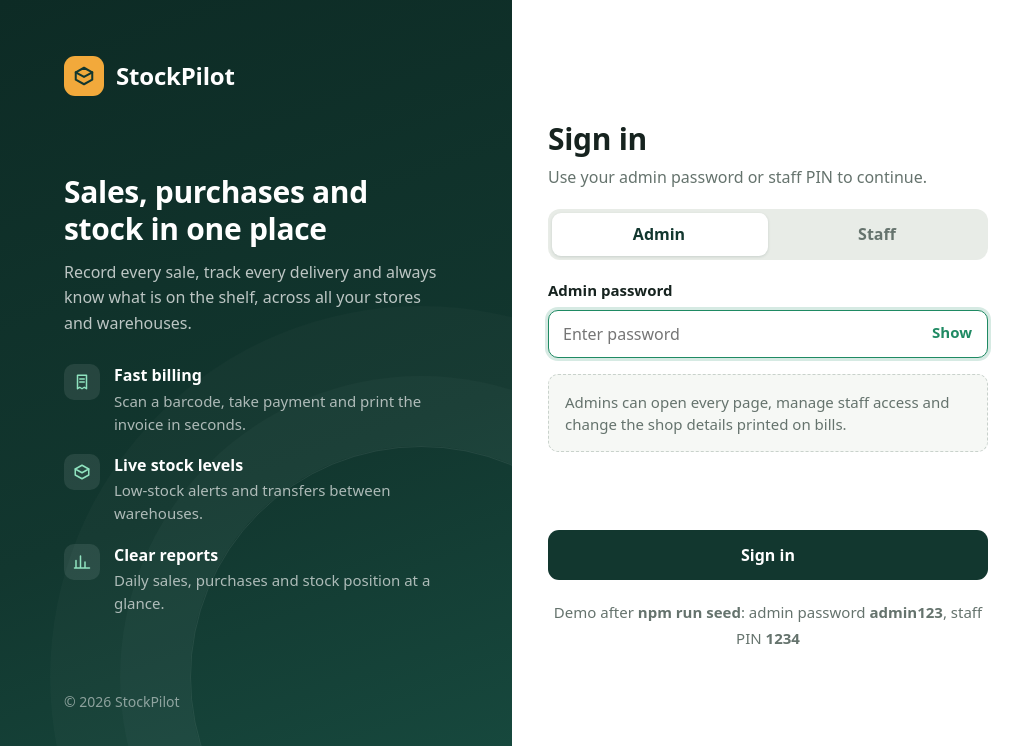
Test case: stock check blocks over-selling
Type "admin123" into the password field with placeholder "Enter password".
click(768, 334); type("admin123")  # box [548,310,988,358]
Then press Enter
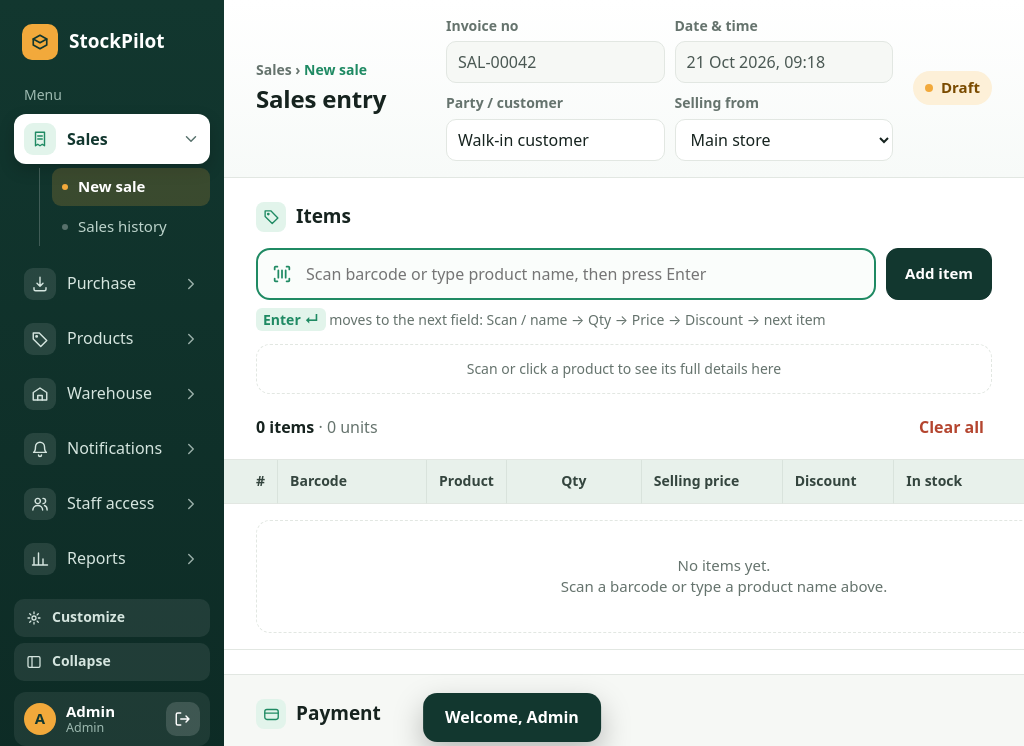
Expected: the heading "Sales entry" is shown, [256,82,386,115]
Type "8901234500001" into the field with placeholder "Scan barcode or type product name, then press Enter".
click(566, 274); type("8901234500001")  # box [256,248,876,300]
Then press Enter
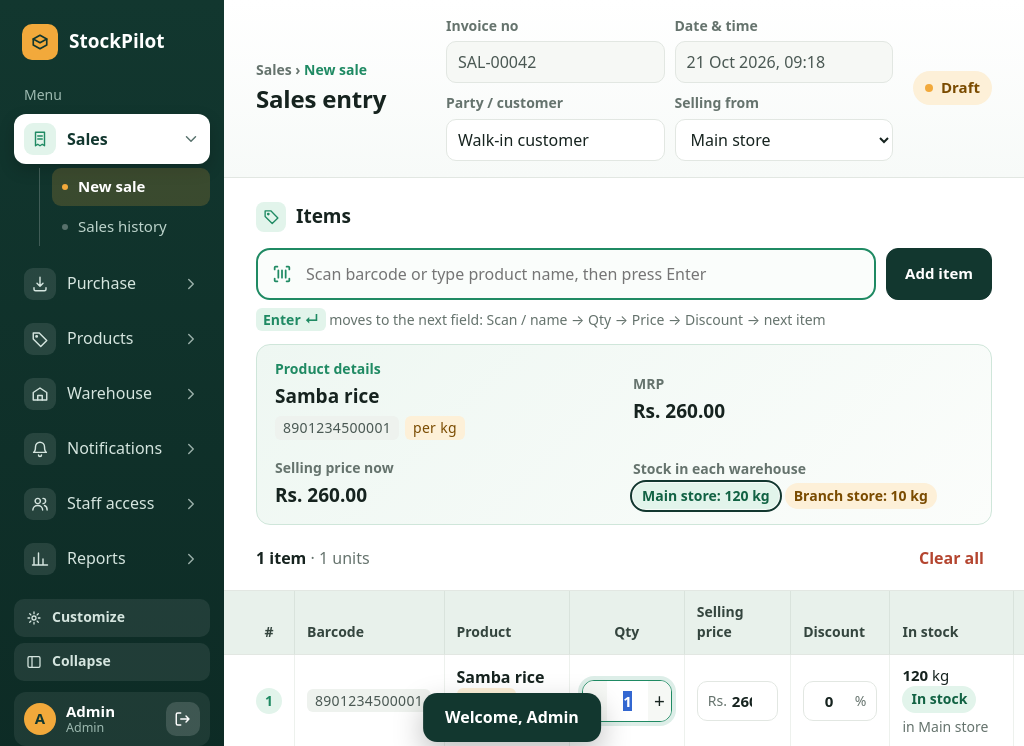
Replace the text in the number field named "Quantity for Samba rice" with "500" at (628, 701), box [607,681,648,721]
(page scrolled)
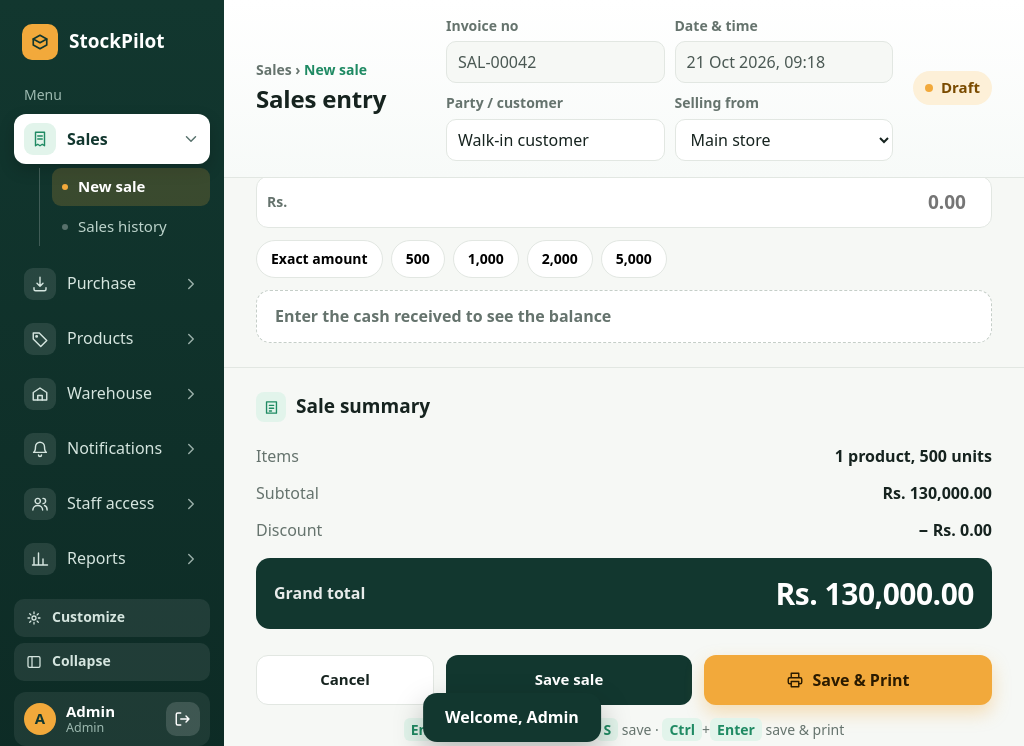
Click the button "Save sale".
click(569, 680)  # box [446,655,692,705]
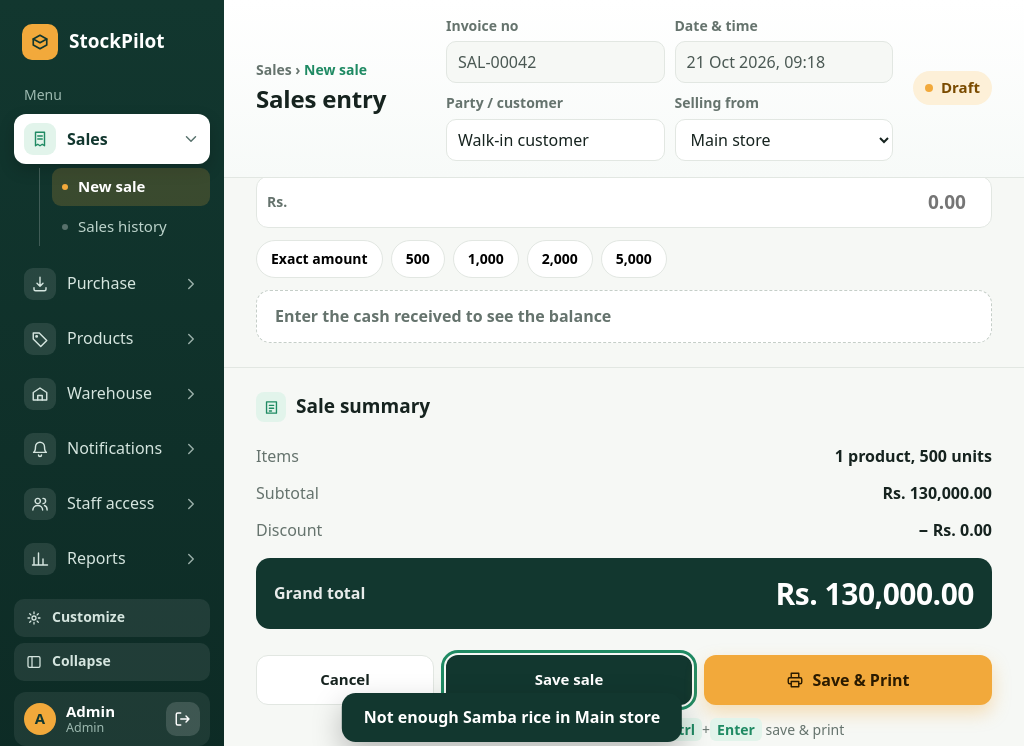
Expected: the text "Not enough Samba rice in Main store" is shown, [342,693,682,742]
